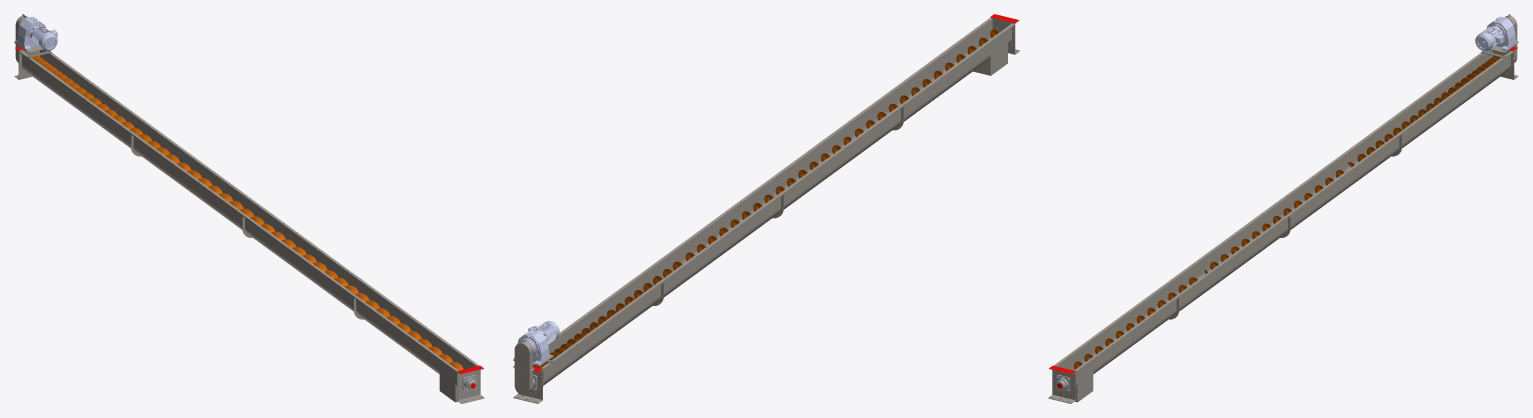
The model's file is assembly-17.glb.
The picture shows the model from 3 angles, left to right: view 1: azimuth 30°, elevation 25°; view 2: azimuth 150°, elevation 25°; view 3: azimuth 330°, elevation 25°; orthographic projection. The views are drawn at different scales.
Parts seen in each view (by area): view 1: 編號6-11M螺運機.-1; view 2: 編號6-11M螺運機.-1; view 3: 編號6-11M螺運機.-1.
Part boxes in pixels (x1,y1,x2,y2): 編號6-11M螺運機.-1: [14, 14, 484, 403]; 編號6-11M螺運機.-1: [513, 14, 1019, 403]; 編號6-11M螺運機.-1: [1048, 14, 1518, 403].
Bounding box in the file's own units: 0.36 × 0.941 × 11.33.
